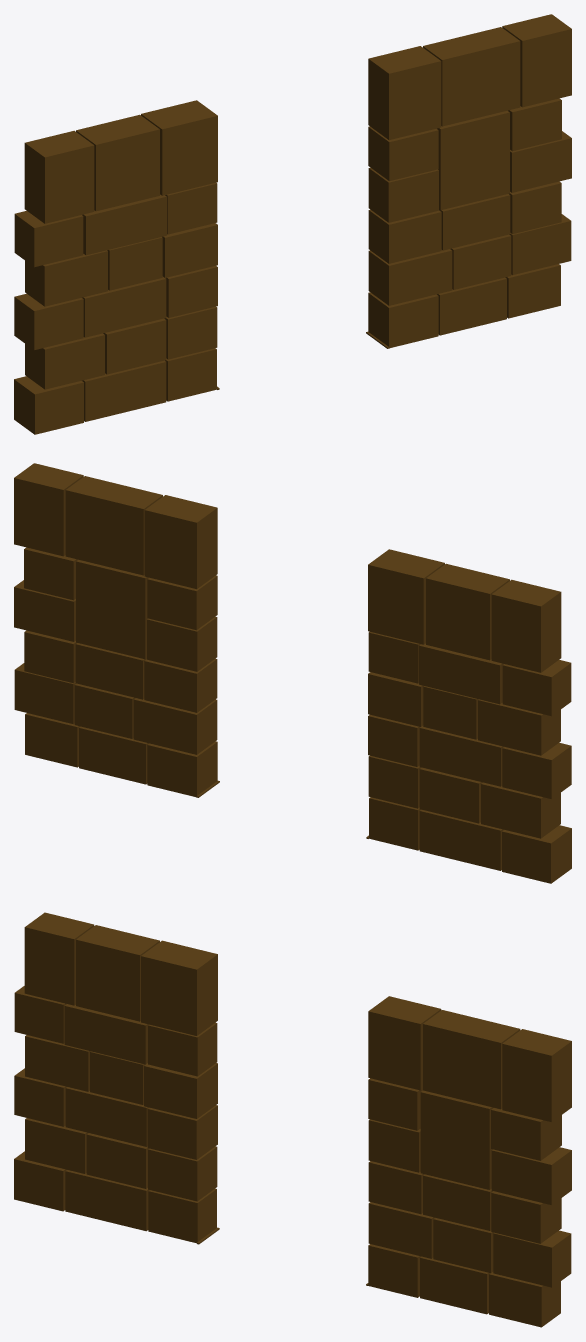
File: RandWall1.fbx
3 renders of one model, top to bottom at view 1: azimuth 30°, elevation 25°; view 2: azimuth 150°, elevation 25°; view 3: azimuth 330°, elevation 25°, orthographic.
Parts seen in each view (by area): view 1: Wall; view 2: Wall; view 3: Wall.
Part boxes in pixels (bbox=[...]): Wall: bbox=[14, 14, 571, 434]; Wall: bbox=[14, 463, 571, 883]; Wall: bbox=[14, 912, 571, 1327].
Bounding box in the file's own units: 3051 × 1489 × 210.
